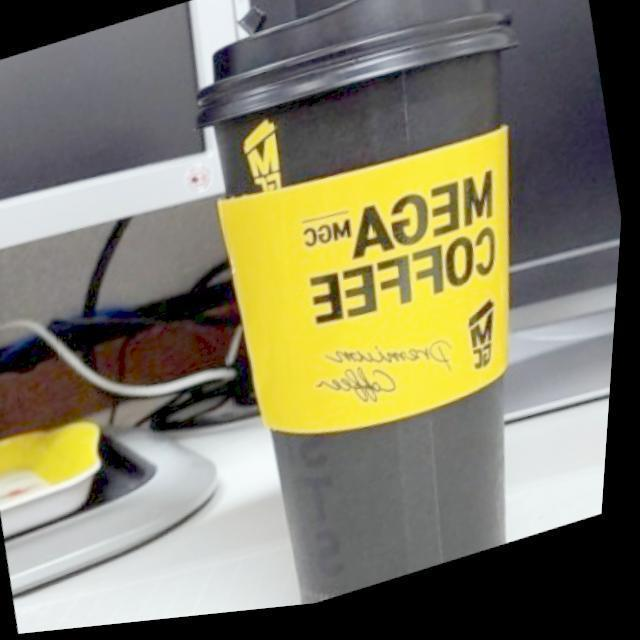cup: (193, 3, 556, 575)
